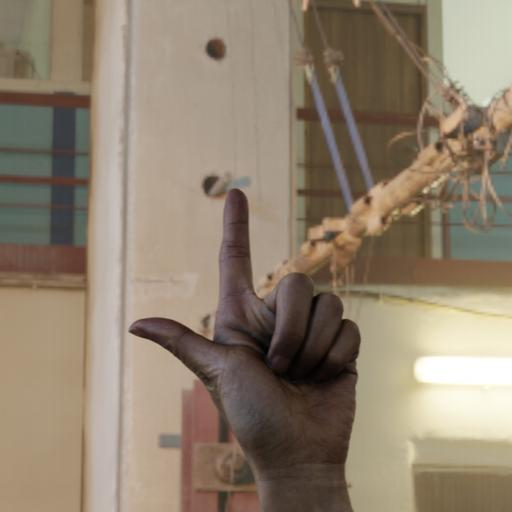L: (126, 187, 366, 481)
